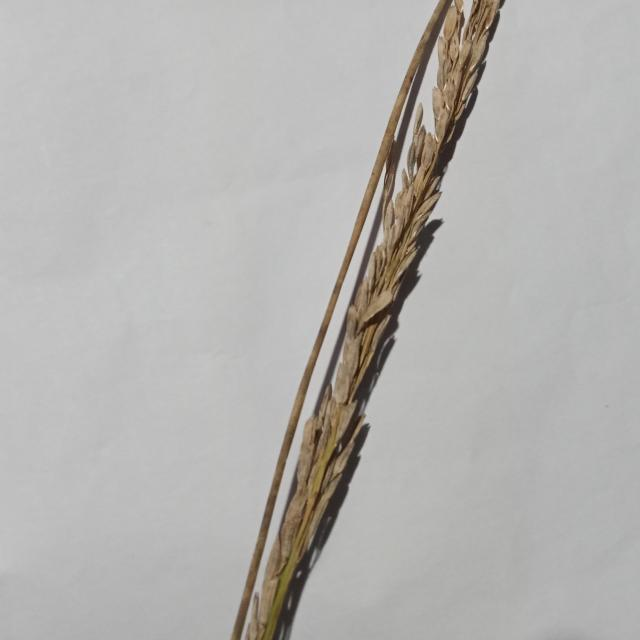Neck_Blast: (237, 0, 505, 640)
